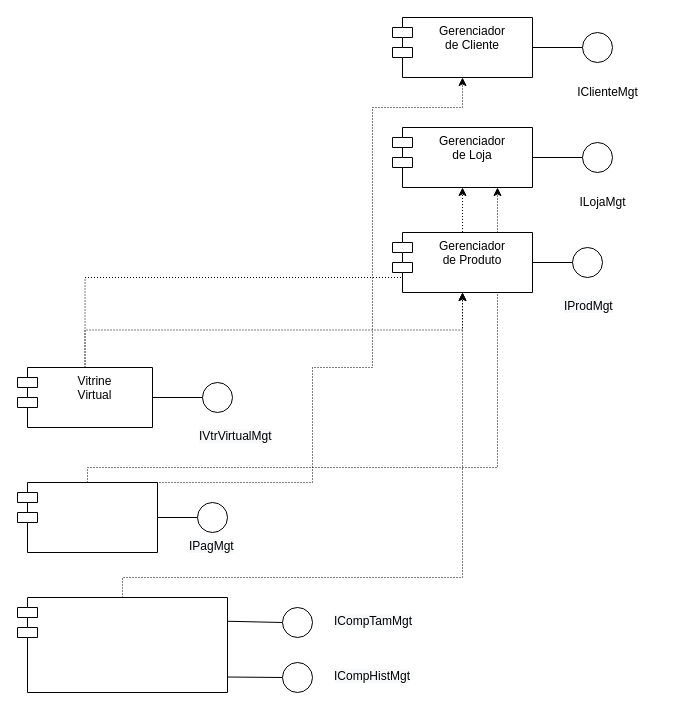
This 680x720 diagram has some shape labels left out. The box of each missing label's shape, as (x1, y1, x2, y2) in pixels:
Comparador de tamanho: (16, 596, 228, 692)
Gerenciador de Pagamento: (16, 482, 158, 552)
